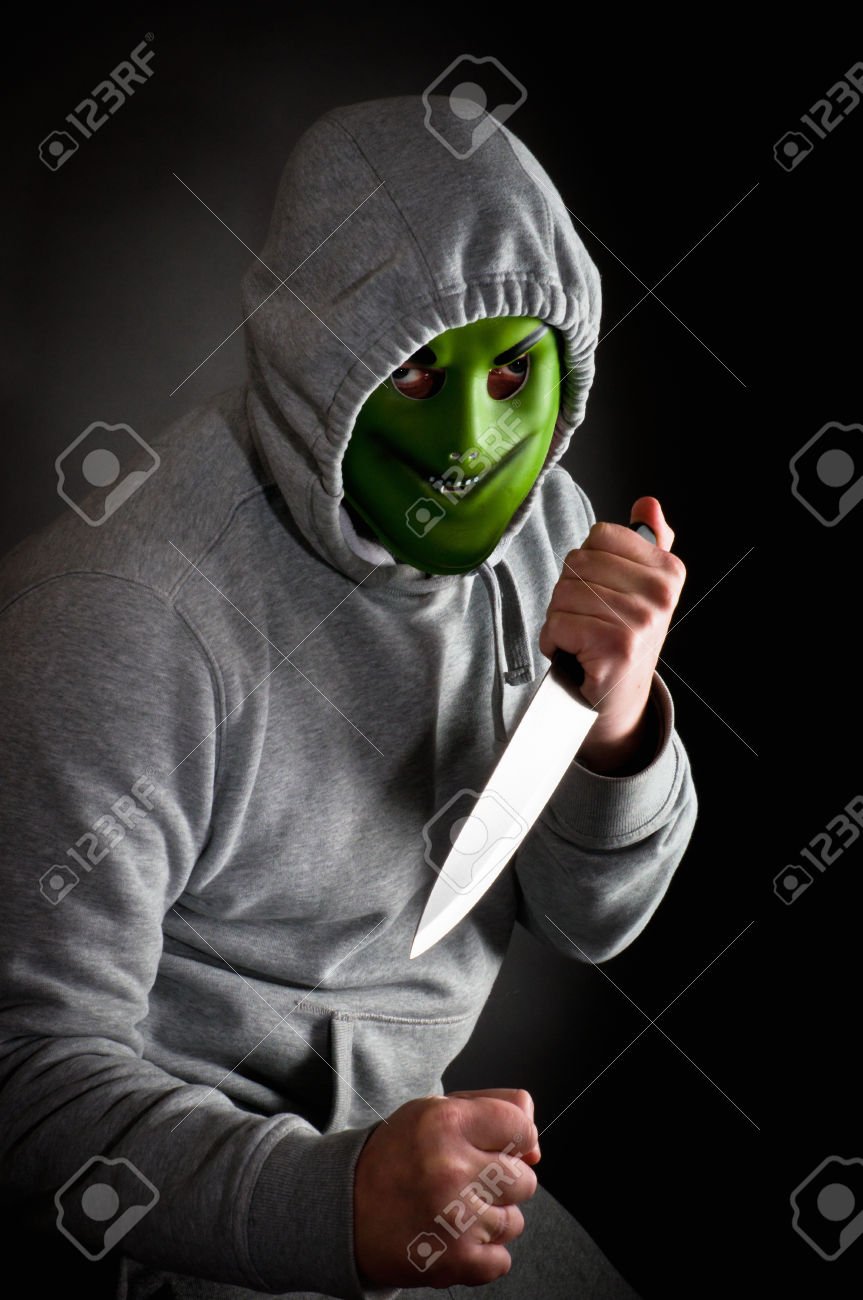knife: (399, 550, 692, 983)
